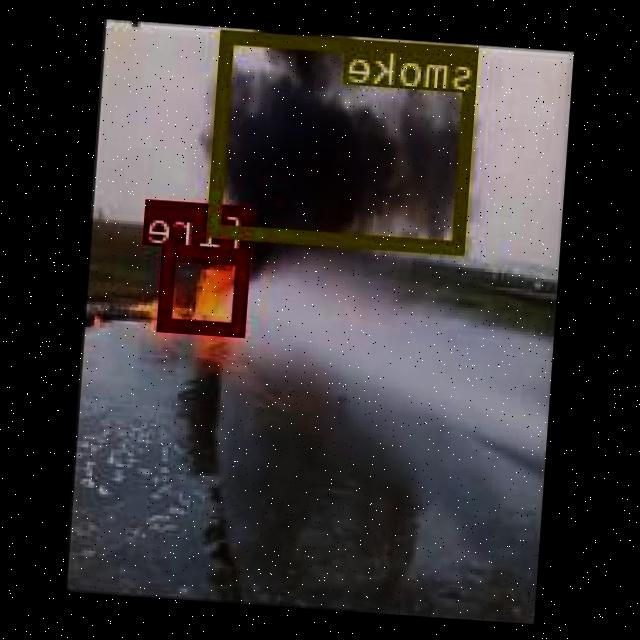fire: (160, 246, 252, 334)
smoke: (210, 30, 481, 251)
